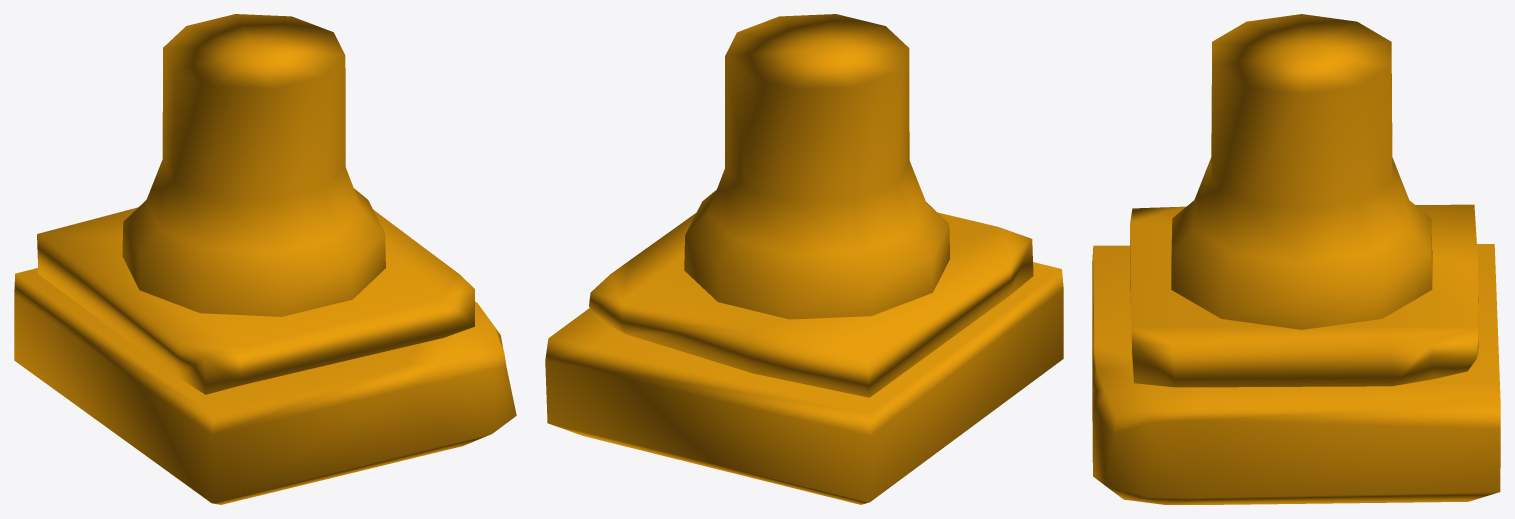
Rendered from Pillar_07_Lod1.fbx.
3 views of the same model, side by side, from view 1: azimuth 30°, elevation 25°; view 2: azimuth 150°, elevation 25°; view 3: azimuth 270°, elevation 25° (orthographic). The views are drawn at different scales.
Parts seen in each view (by area): view 1: Pillar_07_Lod1; view 2: Pillar_07_Lod1; view 3: Pillar_07_Lod1.
Boxes of the visible parts, box(x1,y1,x2,y2) form: Pillar_07_Lod1: box(14, 14, 516, 504); Pillar_07_Lod1: box(545, 14, 1063, 504); Pillar_07_Lod1: box(1092, 14, 1500, 504).
Size of the model in its own units: 563 by 602 by 594.
